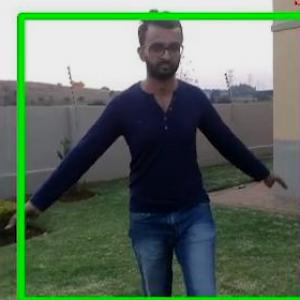land: (8, 21, 300, 299)
